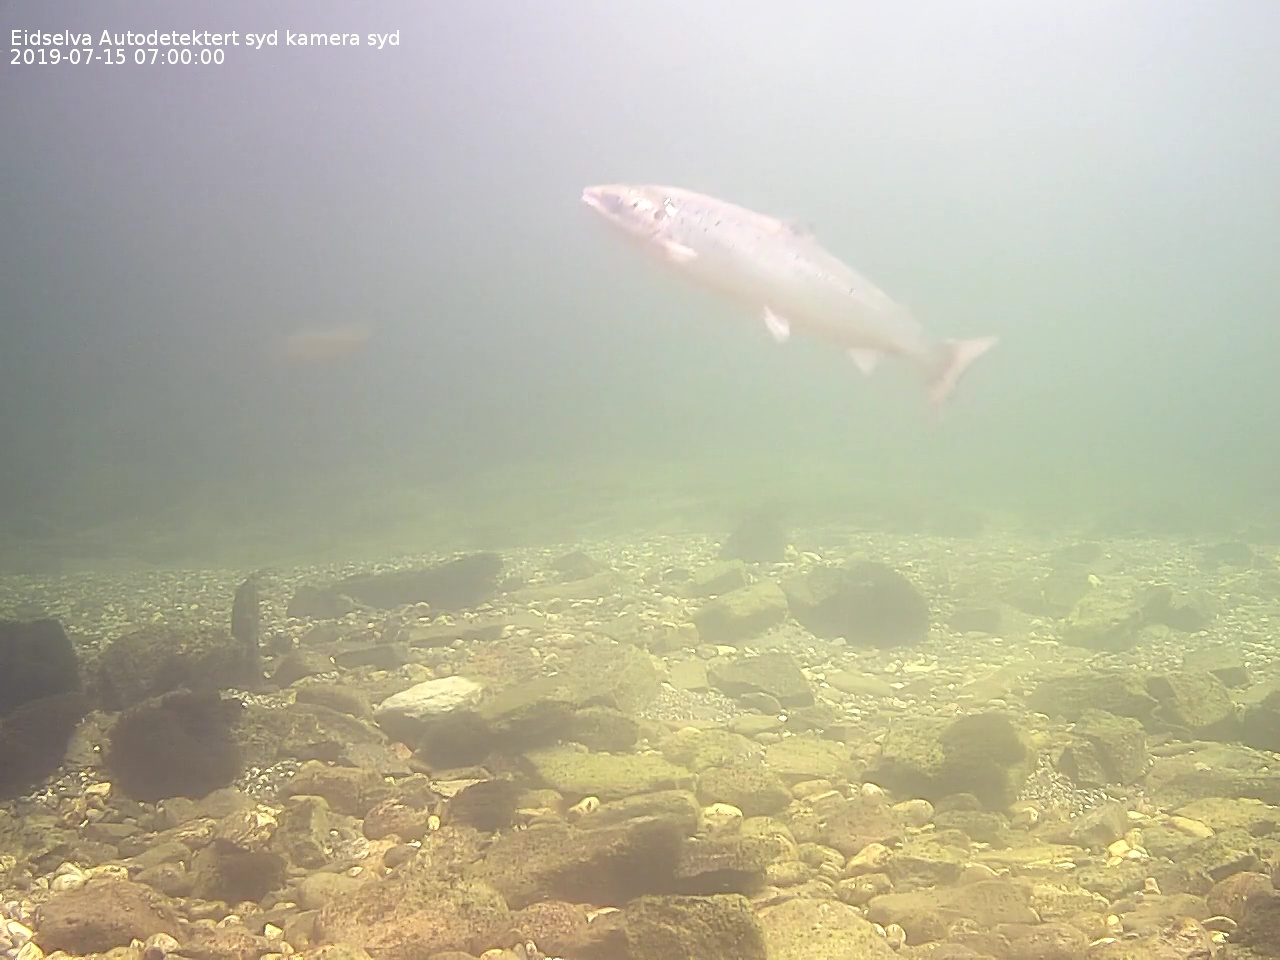salmon: (577, 172, 1011, 412)
